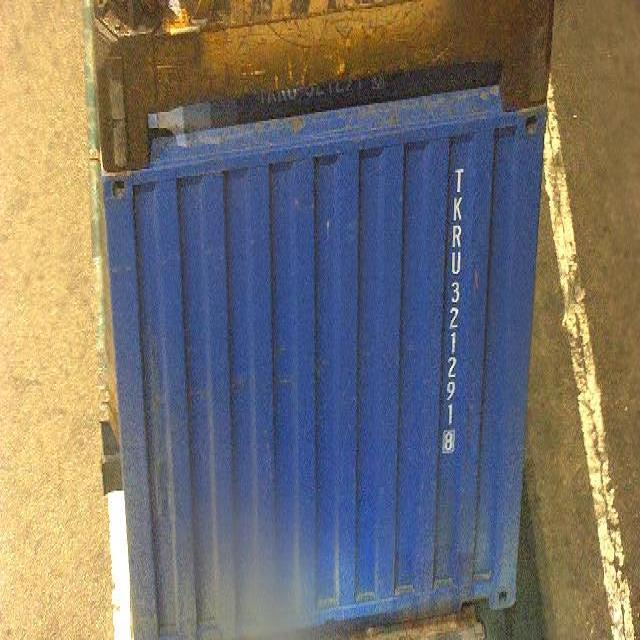container_number: (443, 156, 469, 459)
